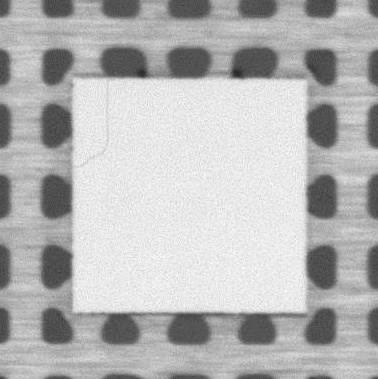DIE_CRACK: (73, 77, 112, 170)
